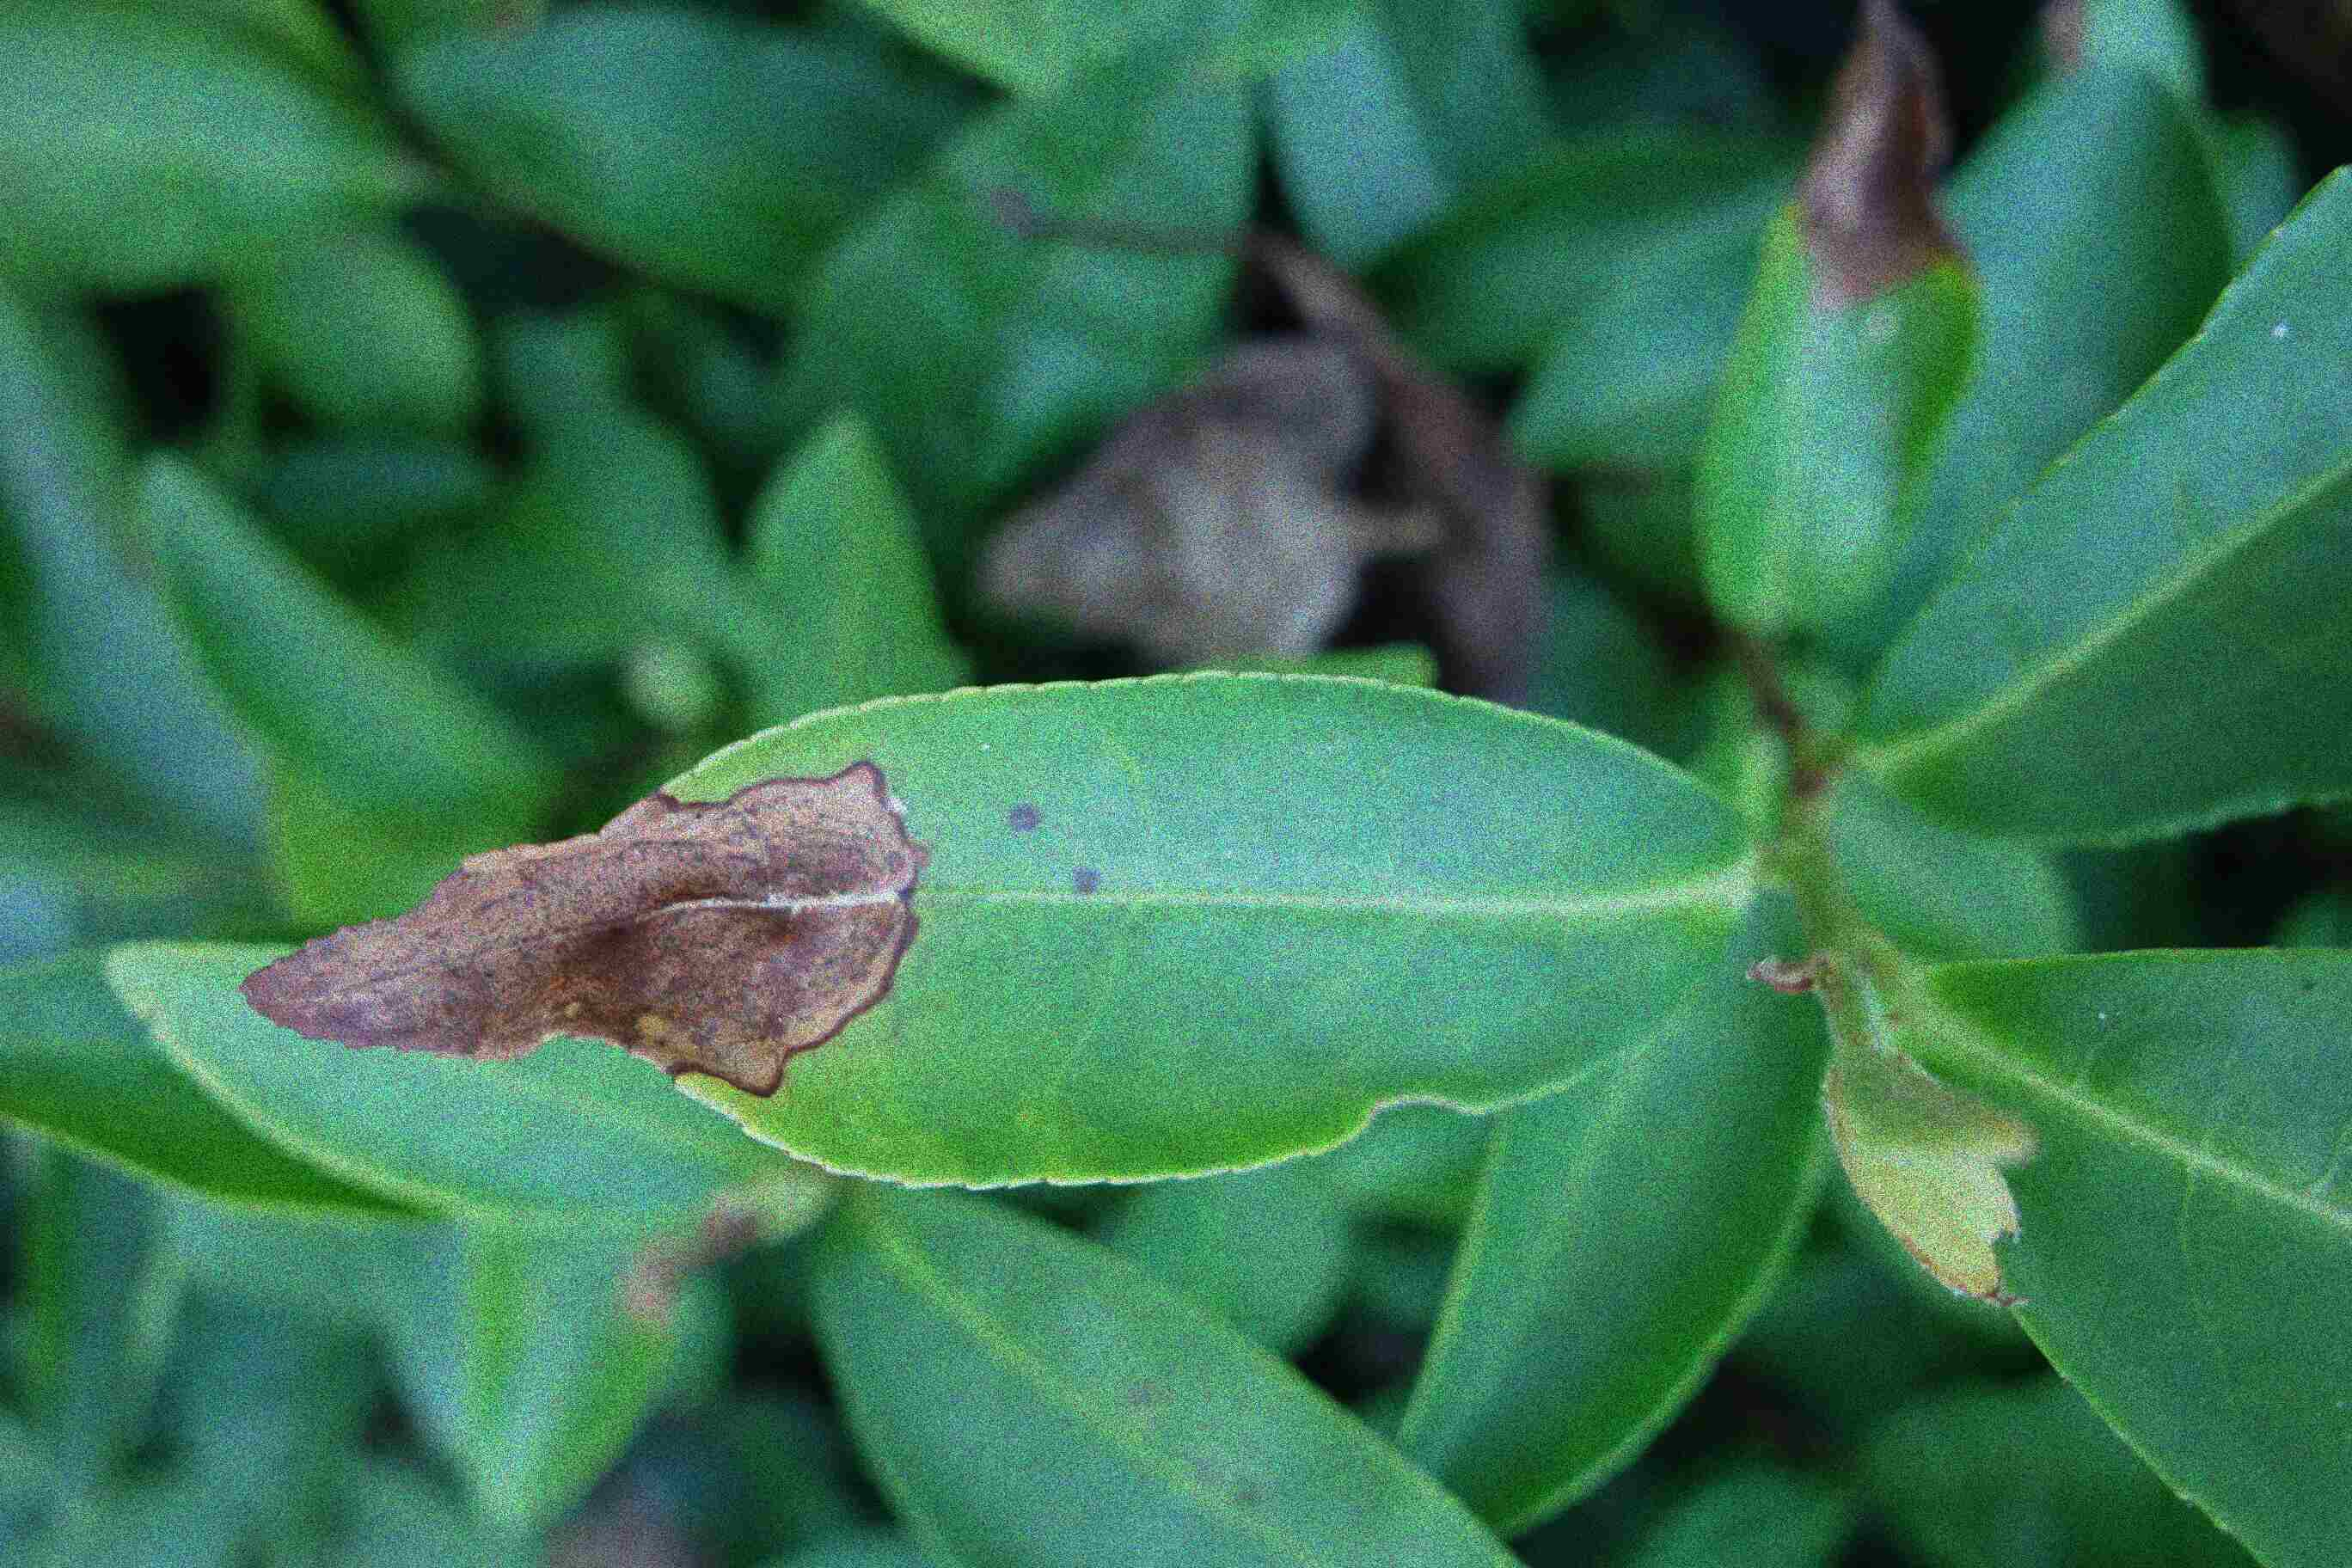tanju_high: (243, 672, 1781, 1185)
